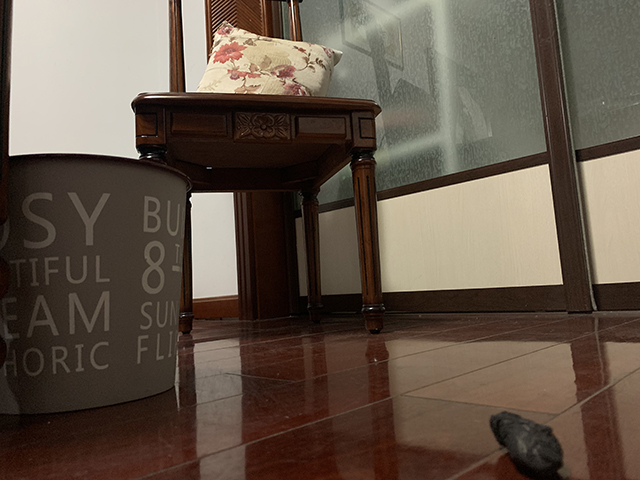feces: (487, 409, 567, 479)
stool: (128, 1, 389, 338)
trashcan: (1, 149, 196, 418)
